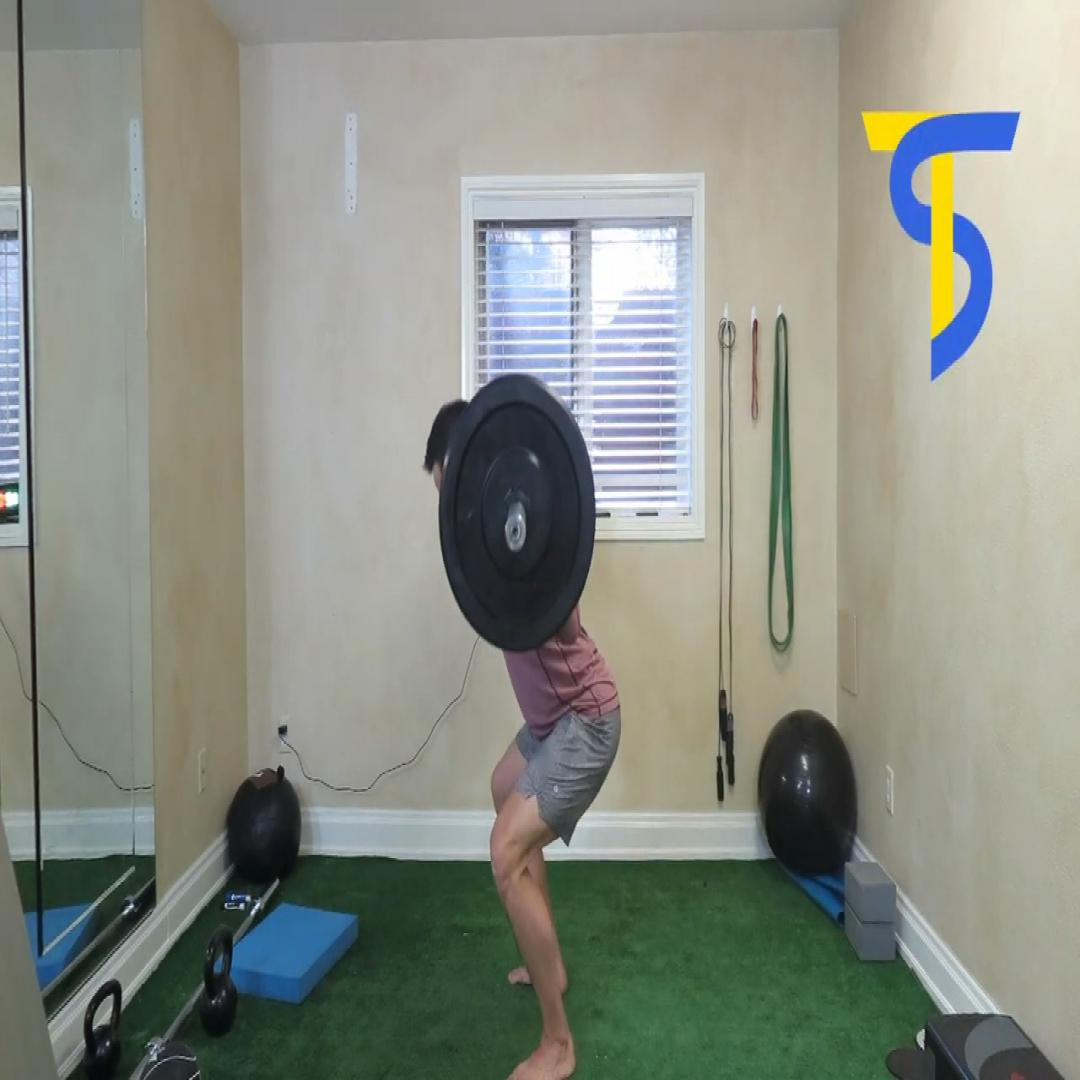Bar: (505, 512, 528, 554)
Barbell: (438, 374, 596, 652)
